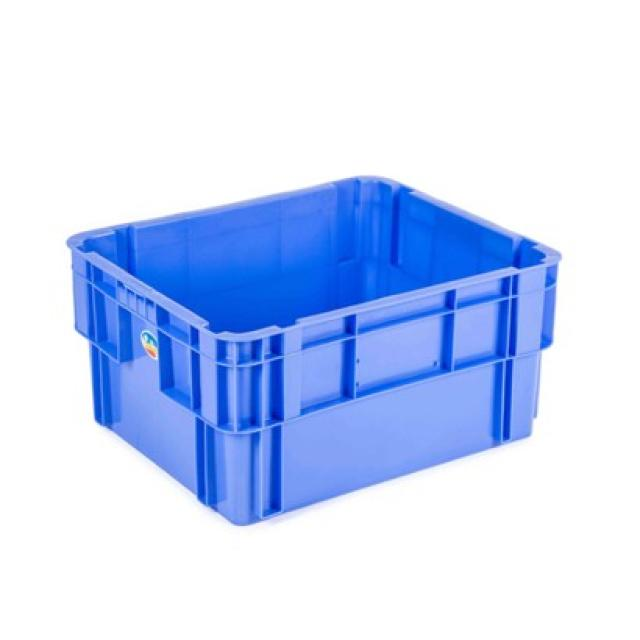basket: (41, 100, 610, 559)
